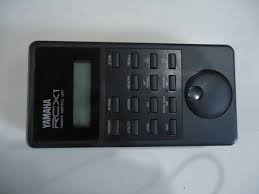remote control: (33, 45, 237, 145)
